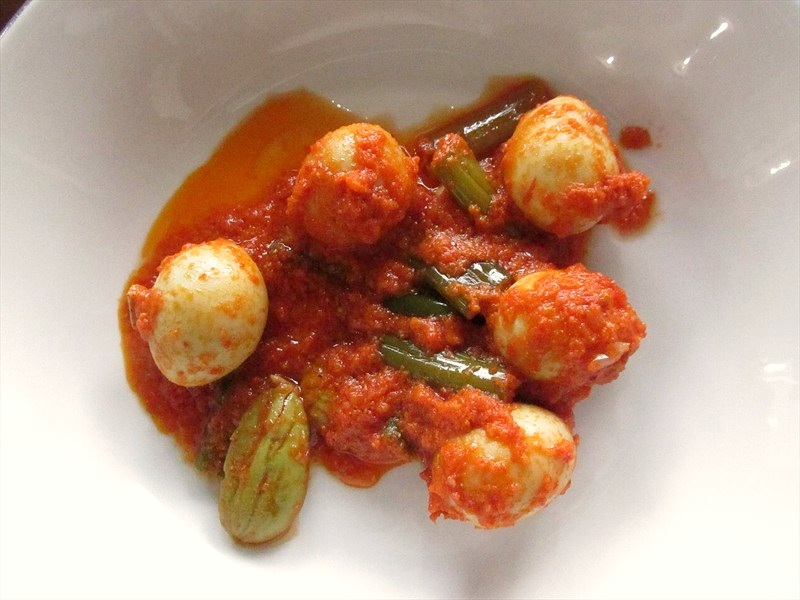Telur Balado: (137, 99, 638, 491)
